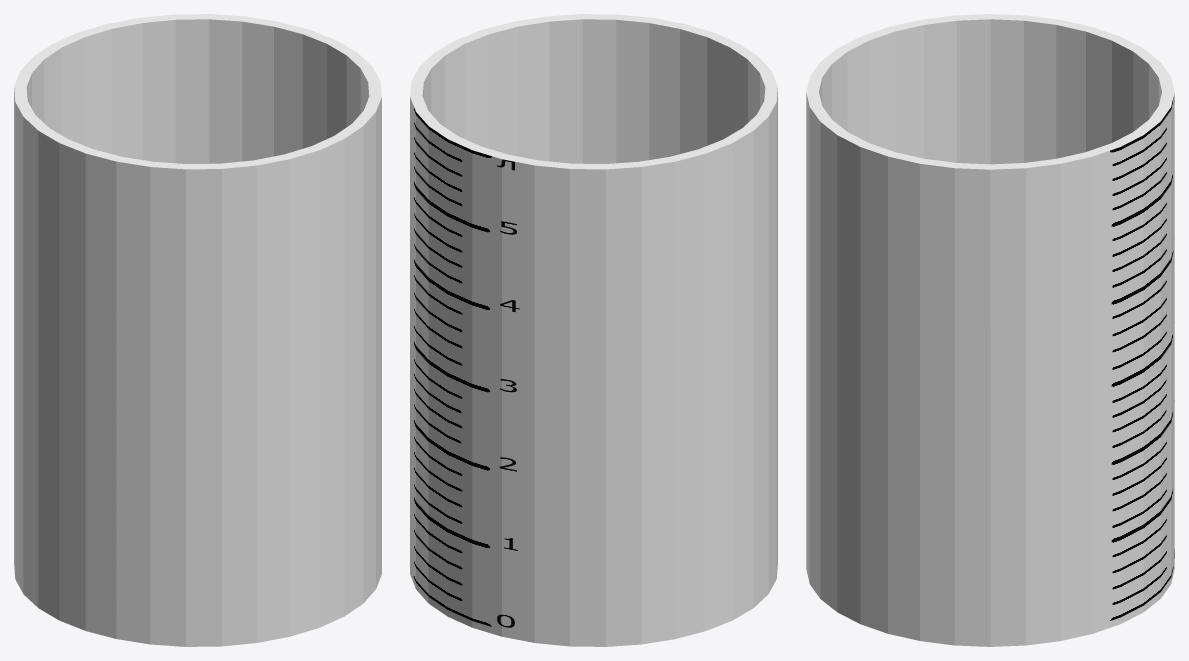
The model's file is colbochka.fbx.
The picture shows the model from 3 angles, left to right: view 1: azimuth 30°, elevation 25°; view 2: azimuth 150°, elevation 25°; view 3: azimuth 270°, elevation 25°; orthographic projection.
Visible parts, largest first — view 1: Цилиндр.001; view 2: Цилиндр.001; view 3: Цилиндр.001.
Part boxes in pixels (x1,y1,x2,y2): Цилиндр.001: (14,14,381,646); Цилиндр.001: (410,14,777,646); Цилиндр.001: (806,14,1174,646).
Bounding box in the file's own units: 137 × 197 × 137.
Materials: 1 (1 with a texture image).
